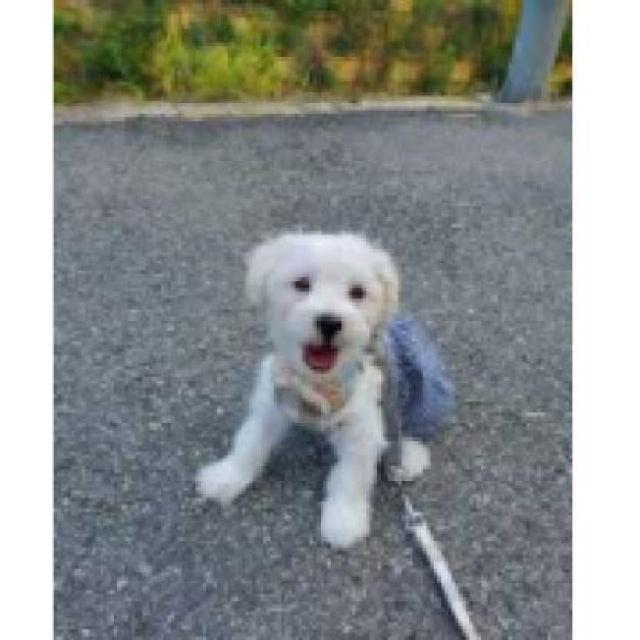Dog: (197, 223, 446, 552)
